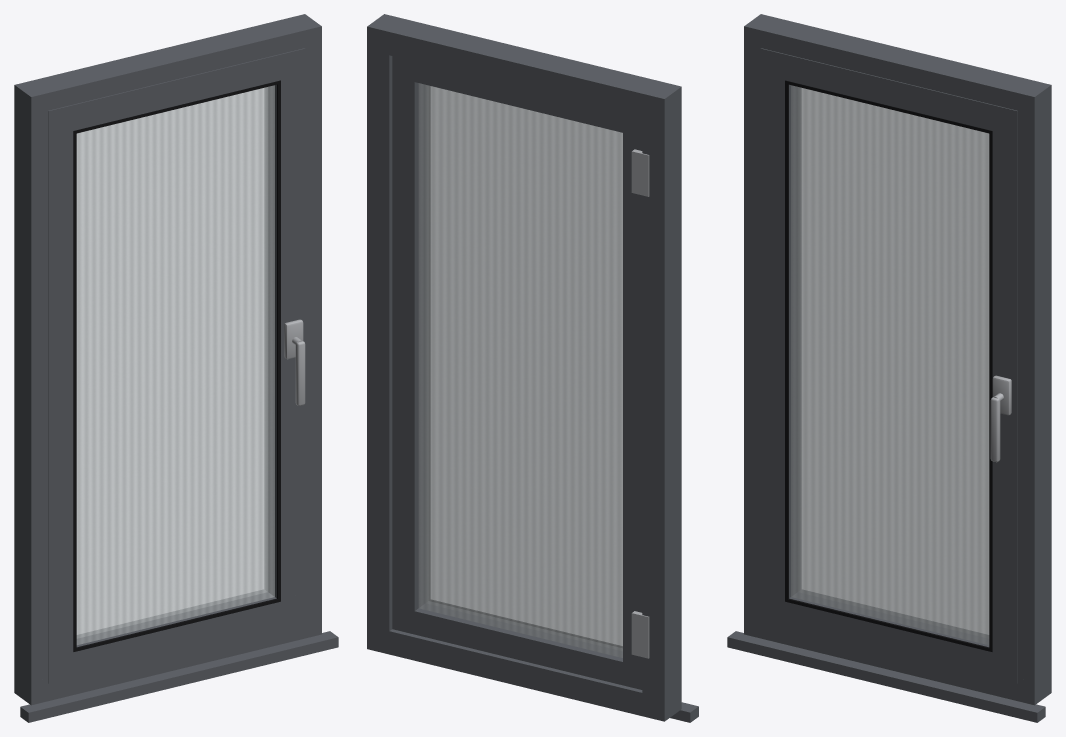
The model's file is obscure-glass-casement-window-600-x-1200-grey-aluminium.glb.
3 views of the same model, side by side, from view 1: azimuth 30°, elevation 25°; view 2: azimuth 150°, elevation 25°; view 3: azimuth 330°, elevation 25° (orthographic). The views are drawn at different scales.
Parts seen in each view (by area): view 1: Window - Obscure reeded glass (alpha-blended, own procedural, Window - Frame, grey powder-coated aluminium, Window - Gaskets, black EPDM, Window - Handles and hinges, satin silver; view 2: Window - Obscure reeded glass (alpha-blended, own procedural, Window - Frame, grey powder-coated aluminium, Window - Handles and hinges, satin silver, Window - Gaskets, black EPDM; view 3: Window - Obscure reeded glass (alpha-blended, own procedural, Window - Frame, grey powder-coated aluminium, Window - Gaskets, black EPDM, Window - Handles and hinges, satin silver.
Part boxes in pixels (box(x1,y1,x2,y2)): Window - Obscure reeded glass (alpha-blended, own procedural: box(76, 85, 274, 644); Window - Frame, grey powder-coated aluminium: box(14, 14, 338, 722); Window - Gaskets, black EPDM: box(73, 80, 280, 651); Window - Handles and hinges, satin silver: box(284, 319, 305, 405); Window - Obscure reeded glass (alpha-blended, own procedural: box(418, 83, 622, 657); Window - Frame, grey powder-coated aluminium: box(367, 14, 698, 722); Window - Handles and hinges, satin silver: box(631, 149, 649, 658); Window - Gaskets, black EPDM: box(429, 86, 622, 647); Window - Obscure reeded glass (alpha-blended, own procedural: box(791, 85, 989, 644); Window - Frame, grey powder-coated aluminium: box(727, 14, 1051, 722); Window - Gaskets, black EPDM: box(785, 80, 992, 651); Window - Handles and hinges, satin silver: box(990, 375, 1011, 462).
Size of the model in its own units: 0.64 by 1.22 by 0.1.
Materials: 4 (4 with a texture image).
